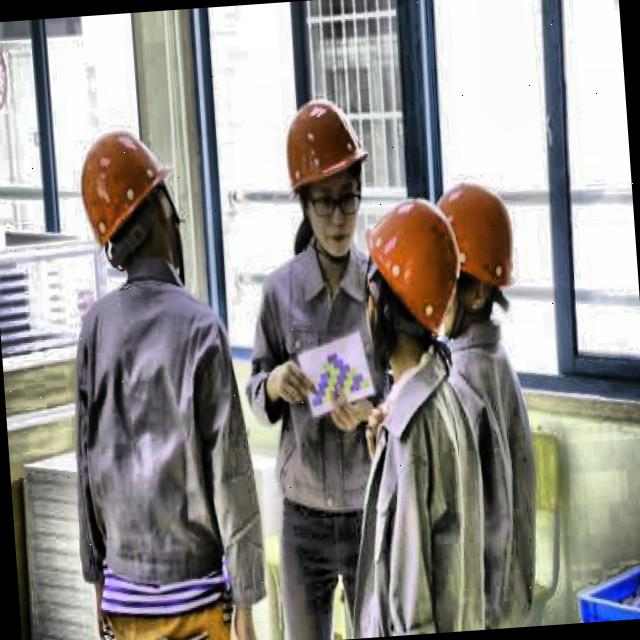helmet: (357, 180, 491, 370), (68, 108, 196, 300), (276, 79, 380, 262), (434, 174, 536, 340)
